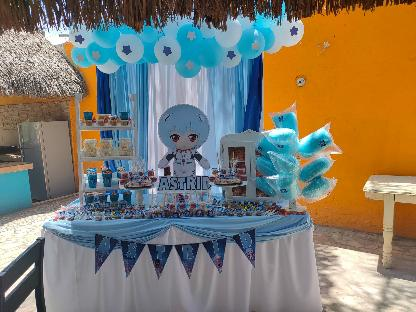rei-plush: (155, 101, 215, 174)
